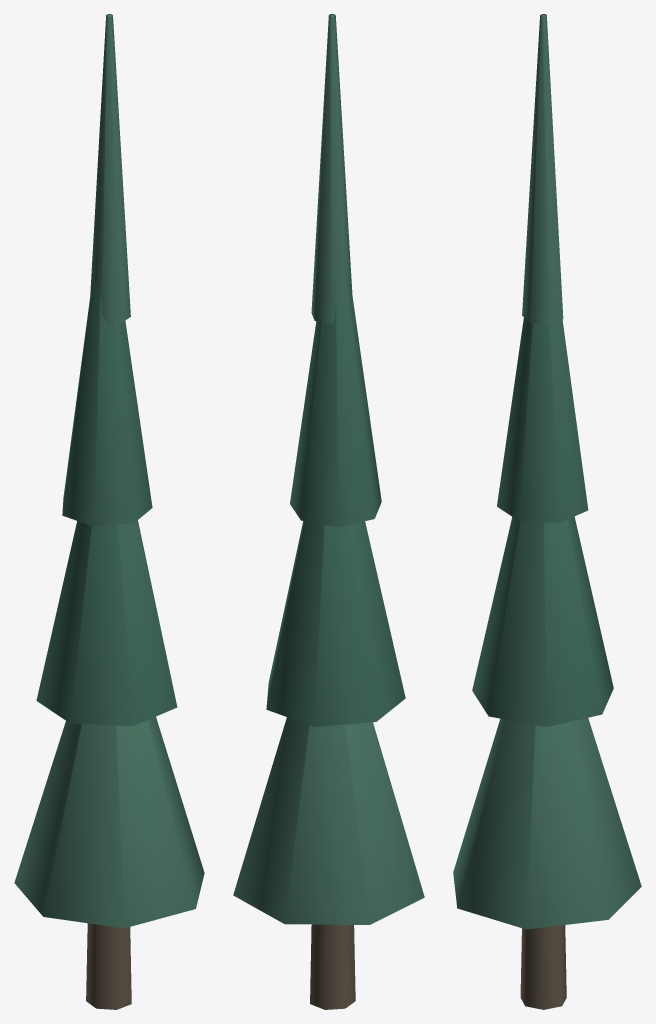
Rendered from cypress_tree_variant_01_lod1.glb.
3 renders of one model, left to right at view 1: azimuth 30°, elevation 25°; view 2: azimuth 150°, elevation 25°; view 3: azimuth 270°, elevation 25°, orthographic.
Visible parts, largest first — view 1: static_leaf_pine_light, static_leaf_pine, trunk; view 2: static_leaf_pine_light, static_leaf_pine, trunk; view 3: static_leaf_pine_light, static_leaf_pine, trunk.
Part boxes in pixels (<box>): static_leaf_pine_light: <box>14,14,204,928</box>; static_leaf_pine: <box>36,277,177,726</box>; trunk: <box>86,923,131,1009</box>; static_leaf_pine_light: <box>233,14,424,924</box>; static_leaf_pine: <box>266,279,405,726</box>; trunk: <box>310,924,355,1009</box>; static_leaf_pine_light: <box>453,14,641,929</box>; static_leaf_pine: <box>472,317,613,726</box>; trunk: <box>520,925,566,1009</box>.
Size of the model in its own units: 1.62 by 9.17 by 1.59.
